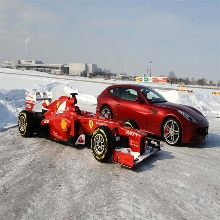no damage: (18, 91, 162, 171), (97, 86, 213, 147)
